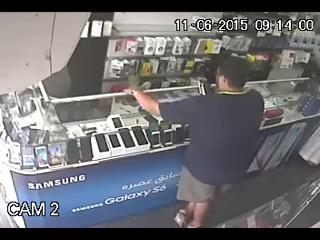Normal: (122, 54, 266, 227)
